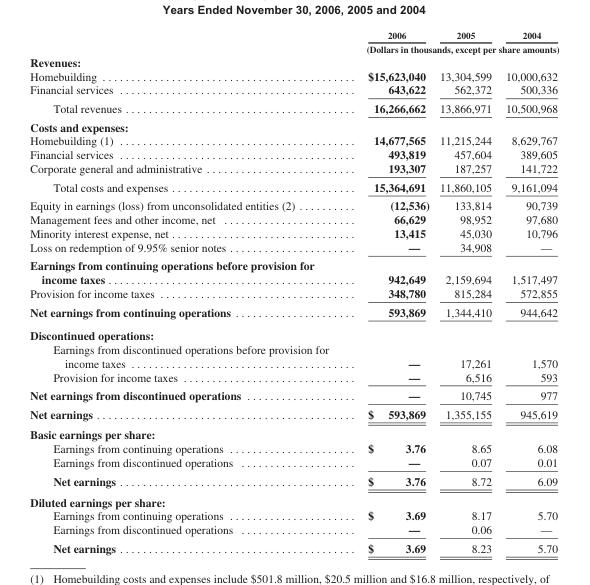table: (29, 29, 558, 554)
table column: (29, 29, 346, 554), (346, 29, 433, 554), (433, 29, 498, 554), (498, 29, 558, 554)
table column header: (29, 29, 558, 54)
table projected row header: (29, 323, 558, 341), (29, 423, 558, 441), (29, 490, 558, 508), (29, 117, 558, 133), (29, 54, 558, 68)
table row: (29, 256, 558, 286), (29, 341, 558, 369), (29, 302, 558, 323), (29, 98, 558, 117), (29, 385, 558, 404), (29, 404, 558, 423), (29, 471, 558, 490), (29, 177, 558, 195), (29, 323, 558, 341), (29, 423, 558, 441), (29, 490, 558, 508), (29, 195, 558, 212), (29, 239, 558, 256), (29, 82, 558, 98), (29, 117, 558, 133), (29, 161, 558, 177), (29, 286, 558, 302), (29, 369, 558, 385), (29, 455, 558, 471), (29, 522, 558, 538), (29, 538, 558, 554), (29, 54, 558, 68), (29, 68, 558, 82), (29, 133, 558, 147), (29, 147, 558, 161), (29, 225, 558, 239), (29, 441, 558, 455), (29, 508, 558, 522), (29, 41, 558, 54), (29, 212, 558, 225), (29, 29, 558, 41)
table spanning cell: (346, 41, 558, 54)
